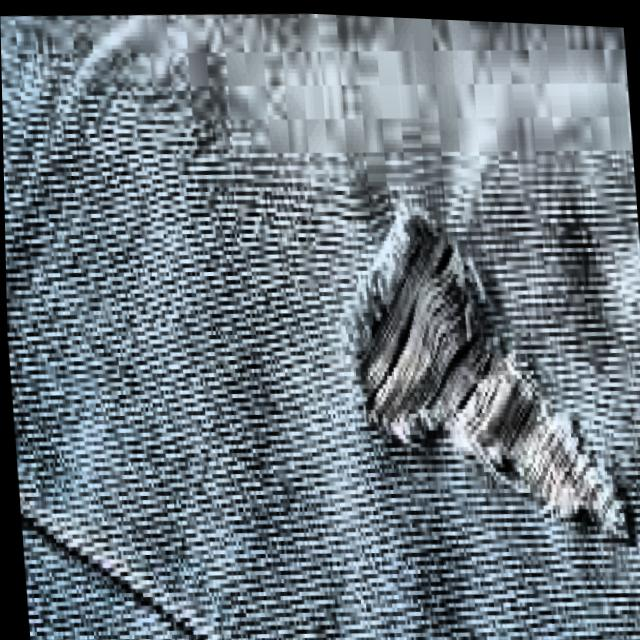Hole: (318, 170, 640, 572)
